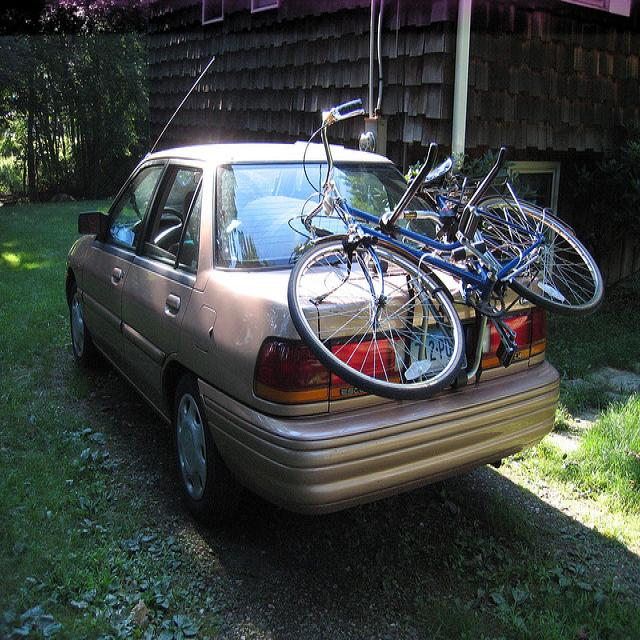Vehicle: (64, 55, 558, 512)
